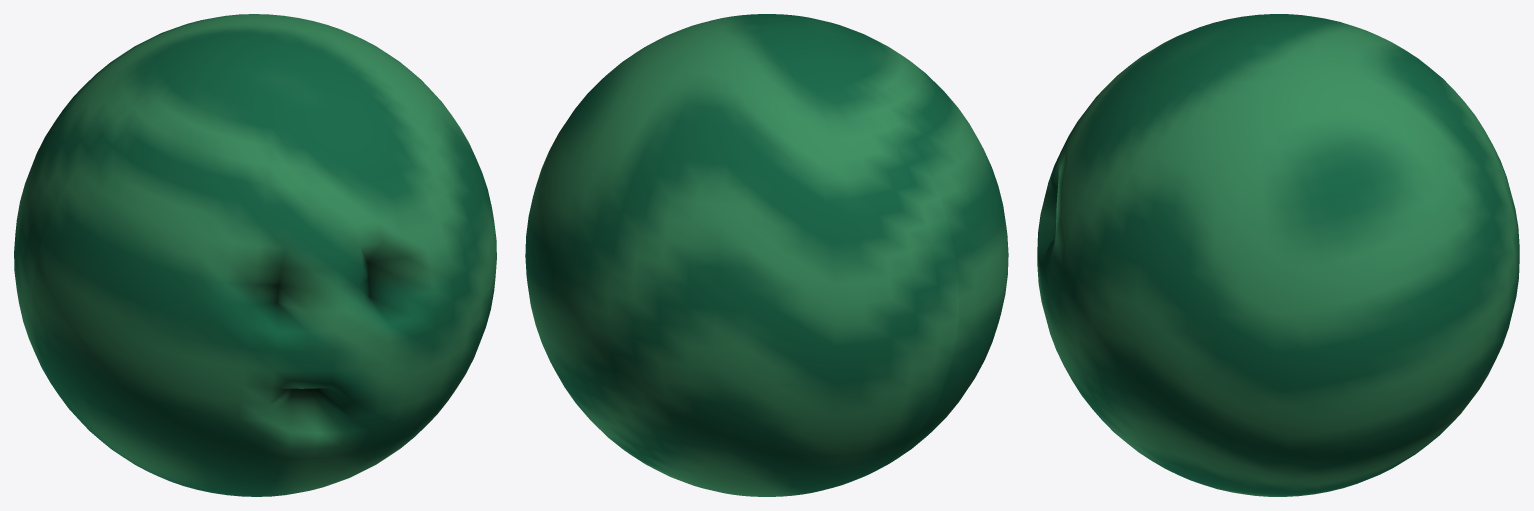
Rendered from bowlinggreen.glb.
3 views of the same model, side by side, from view 1: azimuth 30°, elevation 25°; view 2: azimuth 150°, elevation 25°; view 3: azimuth 270°, elevation 25° (orthographic).
Parts seen in each view (by area): view 1: bowlinggreen; view 2: bowlinggreen; view 3: bowlinggreen.
Part boxes in pixels (x1,y1,x2,y2): bowlinggreen: (14,14,496,496); bowlinggreen: (525,14,1008,496); bowlinggreen: (1037,14,1519,496).
Size of the model in its own units: 0.9578 by 0.9574 by 0.9562.
